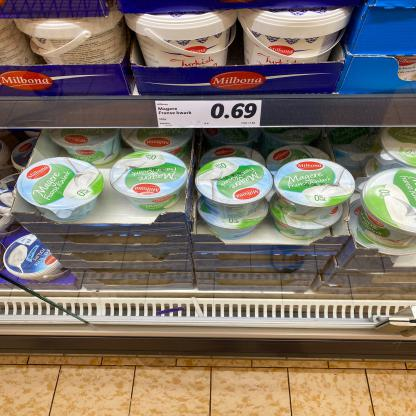prtg: (156, 101, 263, 128)
